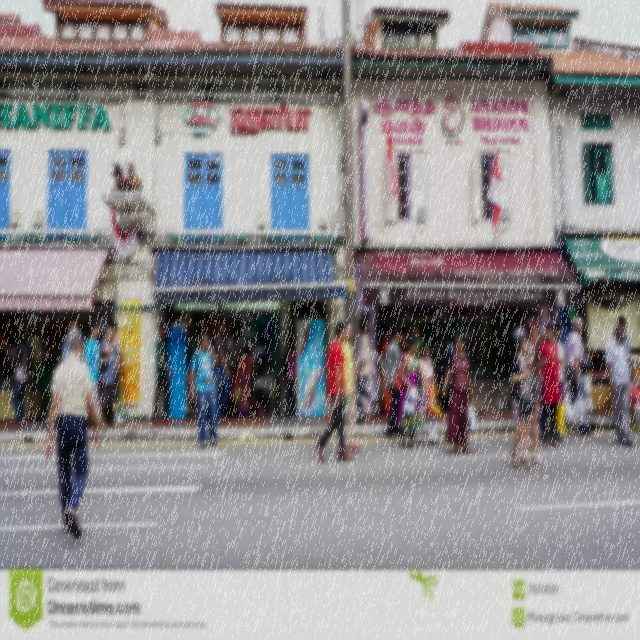pessoa: (42, 327, 102, 542), (314, 321, 354, 464), (504, 324, 540, 473), (441, 330, 479, 458), (604, 321, 640, 451), (559, 312, 596, 437), (188, 329, 221, 451), (524, 316, 548, 466), (612, 314, 639, 431), (26, 331, 61, 421), (339, 319, 362, 453), (538, 320, 562, 448), (84, 318, 110, 430), (150, 319, 176, 427), (99, 325, 125, 426), (548, 320, 569, 443), (355, 319, 379, 424), (526, 322, 545, 454), (416, 340, 438, 446), (398, 335, 418, 449), (8, 325, 30, 423), (384, 326, 402, 440), (214, 318, 232, 424), (110, 321, 126, 422), (439, 315, 479, 355), (242, 344, 260, 418), (410, 324, 424, 407), (284, 336, 298, 418), (380, 328, 392, 418), (62, 315, 79, 359), (398, 324, 411, 354), (282, 322, 293, 350), (360, 306, 370, 332), (237, 343, 245, 368)
